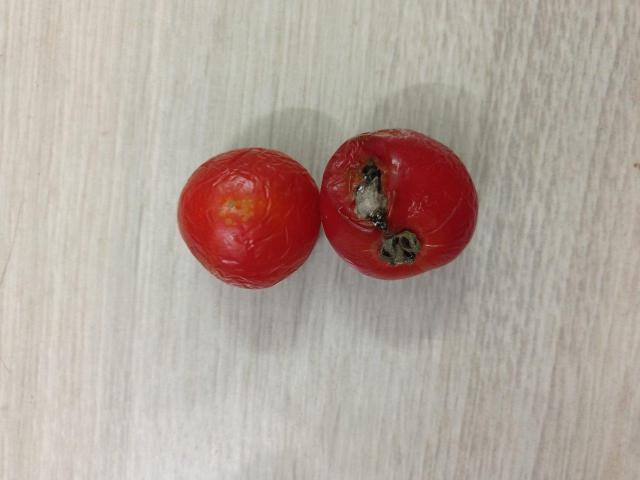defect: (319, 126, 483, 285), (176, 144, 317, 290)
